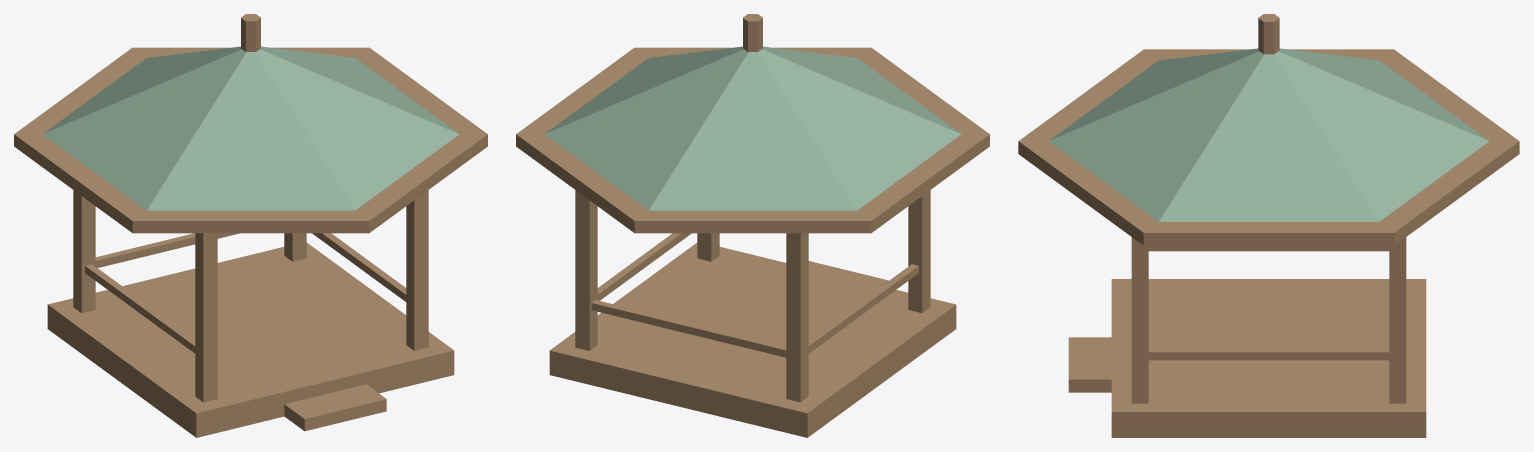
Rendered from pavilion.glb.
3 views of the same model, side by side, from view 1: azimuth 30°, elevation 25°; view 2: azimuth 150°, elevation 25°; view 3: azimuth 270°, elevation 25° (orthographic). The views are drawn at different scales.
Visible parts, largest first — view 1: pavilion; view 2: pavilion; view 3: pavilion.
Boxes of the visible parts, x1,y1,x2,y2 form: pavilion: [14, 14, 487, 437]; pavilion: [516, 14, 989, 437]; pavilion: [1018, 14, 1519, 437].
Size of the model in its own units: 6.06 by 5.45 by 7.
